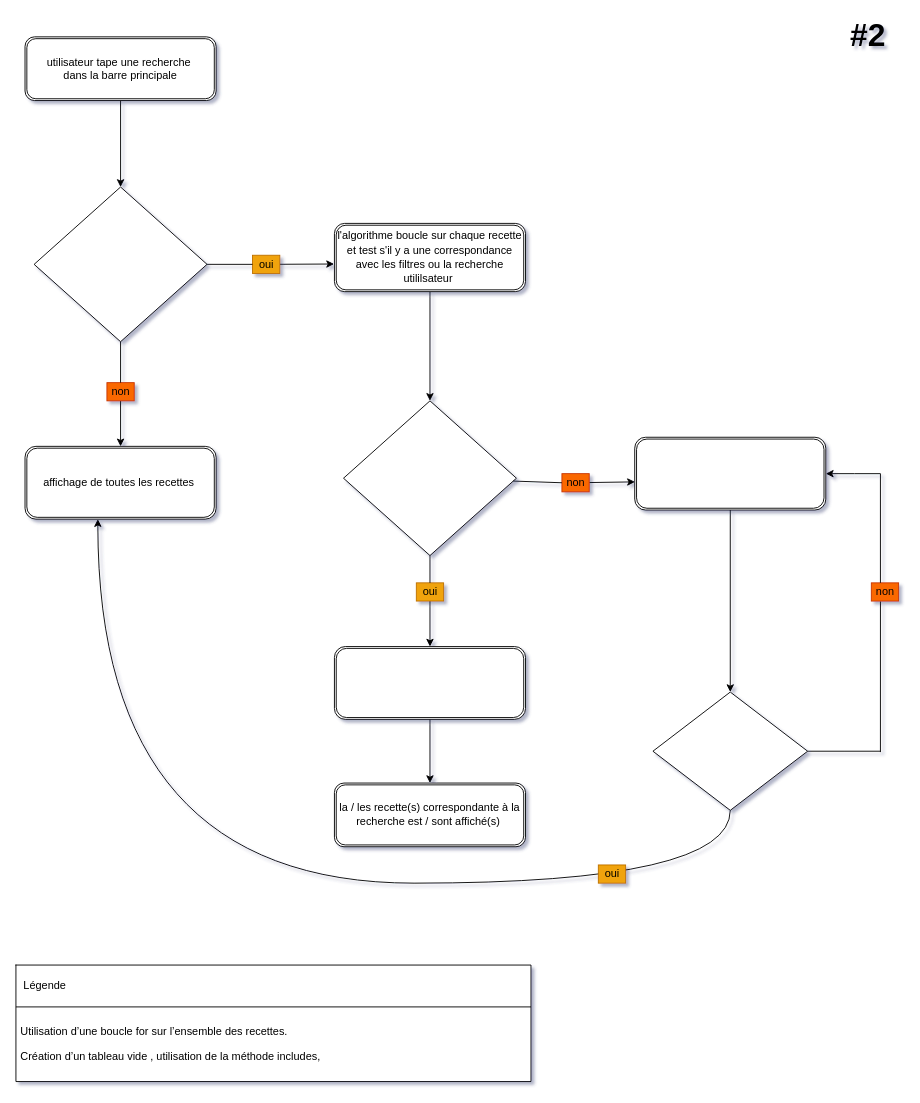
This 920x1103 diagram has some shape labels left out. The centre of each missing label's shape, as x and y in pixels:
"affichage du message d'erreur" goes at pixel 730 473.
"la / les recette(s) sont ajouté(s) au tableau" goes at pixel 430 682.
"la valeur de sa recherche contient plus de 3 caractères" goes at pixel 120 264.
"les recettes inclues le résultat de la recherche" goes at pixel 429 478.
"utilisateur efface la requete" goes at pixel 730 750.
